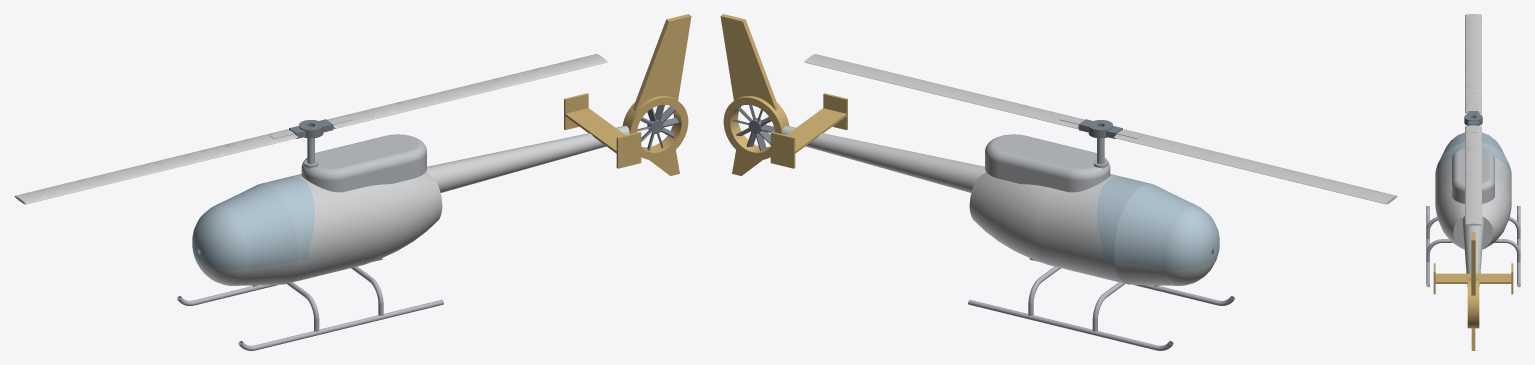
The model's file is step_17.glb.
3 views of the same model, side by side, from view 1: azimuth 30°, elevation 25°; view 2: azimuth 150°, elevation 25°; view 3: azimuth 270°, elevation 25° (orthographic). The views are drawn at different scales.
Visible parts, largest first — view 1: part__fuselage, part__canopy glazing, part__engine cowling, part__fin and fan duct, part__tail boom, part__main rotor blade 2, part__main rotor blade 1, part__horizontal stabiliser, part__skid left, part__tail fan, part__main rotor hub, part__skid right; view 2: part__fuselage, part__canopy glazing, part__engine cowling, part__fin and fan duct, part__tail boom, part__main rotor blade 2, part__main rotor blade 1, part__horizontal stabiliser, part__skid right, part__tail fan, part__main rotor hub, part__skid left; view 3: part__fuselage, part__main rotor blade 1, part__main rotor blade 2, part__engine cowling, part__fin and fan duct, part__horizontal stabiliser, part__tail boom, part__canopy glazing, part__cross tube rear, part__main rotor hub, part__cross tube front, part__skid right (+1 smaller).
Part boxes in pixels (bbox=[...]): part__fuselage: bbox=[194, 172, 442, 285]; part__canopy glazing: bbox=[192, 176, 314, 269]; part__engine cowling: bbox=[301, 134, 426, 192]; part__fin and fan duct: bbox=[622, 14, 691, 175]; part__tail boom: bbox=[426, 125, 629, 192]; part__main rotor blade 2: bbox=[14, 129, 298, 204]; part__main rotor blade 1: bbox=[327, 54, 607, 128]; part__horizontal stabiliser: bbox=[564, 93, 641, 168]; part__skid left: bbox=[238, 299, 443, 350]; part__tail fan: bbox=[637, 105, 679, 150]; part__main rotor hub: bbox=[289, 119, 333, 138]; part__skid right: bbox=[177, 258, 382, 305]; part__fuselage: bbox=[969, 172, 1217, 285]; part__canopy glazing: bbox=[1097, 176, 1219, 269]; part__engine cowling: bbox=[985, 134, 1110, 192]; part__fin and fan duct: bbox=[720, 14, 789, 175]; part__tail boom: bbox=[782, 125, 985, 192]; part__main rotor blade 2: bbox=[1113, 129, 1397, 204]; part__main rotor blade 1: bbox=[804, 54, 1084, 128]; part__horizontal stabiliser: bbox=[770, 93, 847, 168]; part__skid right: bbox=[968, 299, 1173, 350]; part__tail fan: bbox=[733, 105, 774, 150]; part__main rotor hub: bbox=[1078, 119, 1122, 138]; part__skid left: bbox=[1029, 258, 1234, 305]; part__fuselage: bbox=[1435, 157, 1511, 249]; part__main rotor blade 1: bbox=[1465, 125, 1481, 225]; part__main rotor blade 2: bbox=[1465, 14, 1481, 113]; part__engine cowling: bbox=[1452, 147, 1494, 203]; part__fin and fan duct: bbox=[1467, 232, 1479, 350]; part__horizontal stabiliser: bbox=[1433, 263, 1513, 294]; part__tail boom: bbox=[1462, 216, 1484, 286]; part__canopy glazing: bbox=[1435, 132, 1511, 176]; part__cross tube rear: bbox=[1426, 239, 1520, 262]; part__main rotor hub: bbox=[1464, 111, 1482, 125]; part__cross tube front: bbox=[1426, 217, 1520, 239]; part__skid right: bbox=[1517, 206, 1520, 287].
Bounding box in the file's own units: 11970 × 3400 × 1980.
